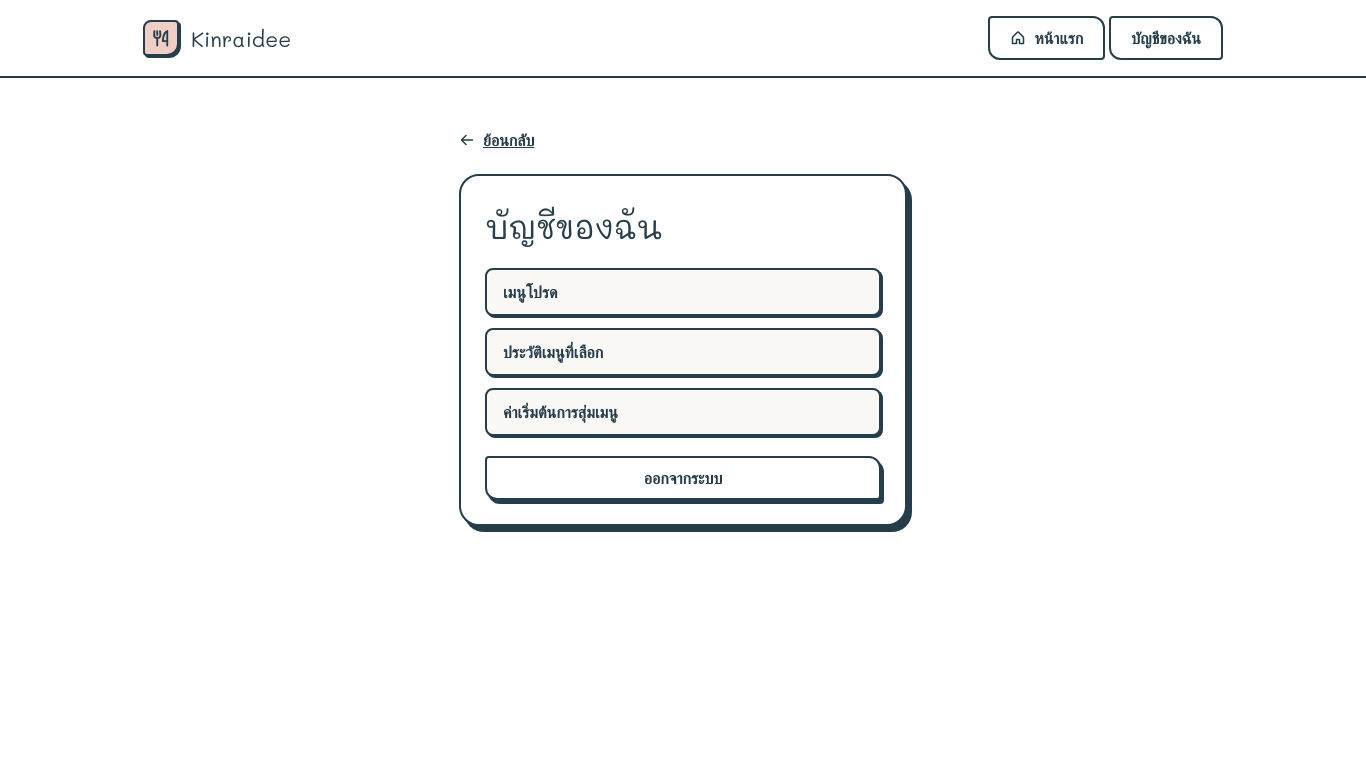
Test: logout › shows a retryable error when logout fails
This screenshot has width=1366, height=768.
Click the button "ออกจากระบบ" at (683, 478), box [485,456,881,500]
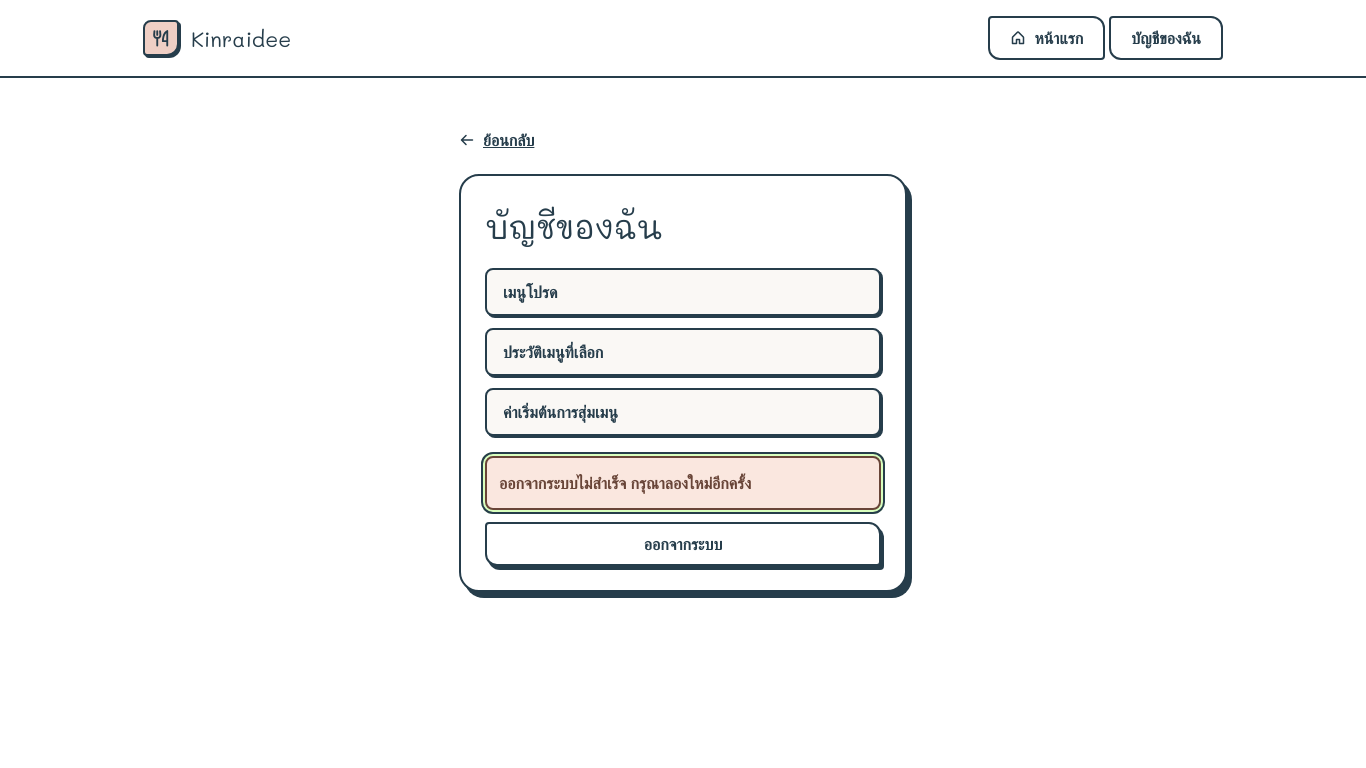
Expected: the message reads "ออกจากระบบไม่สำเร็จ กรุณาลองใหม่อีกครั้ง", [499,472,751,494]
